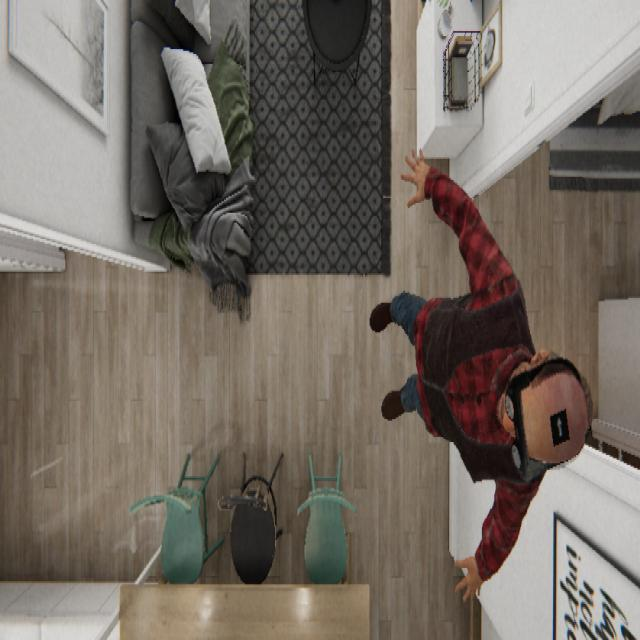Human: (369, 146, 593, 604)
UnityLogo: (548, 404, 570, 447)
